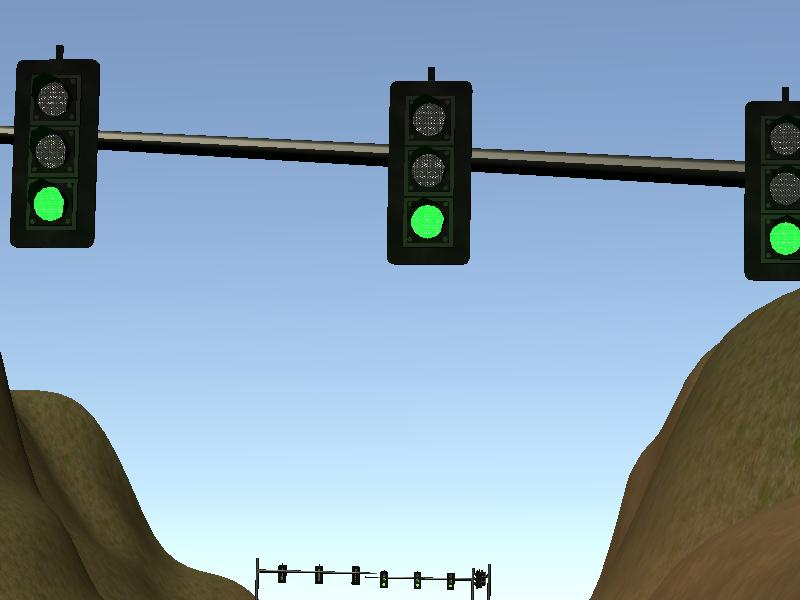green_light: (15, 61, 93, 242), (391, 85, 467, 263), (747, 103, 800, 280)
